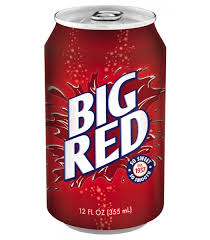can: (42, 5, 169, 235)
